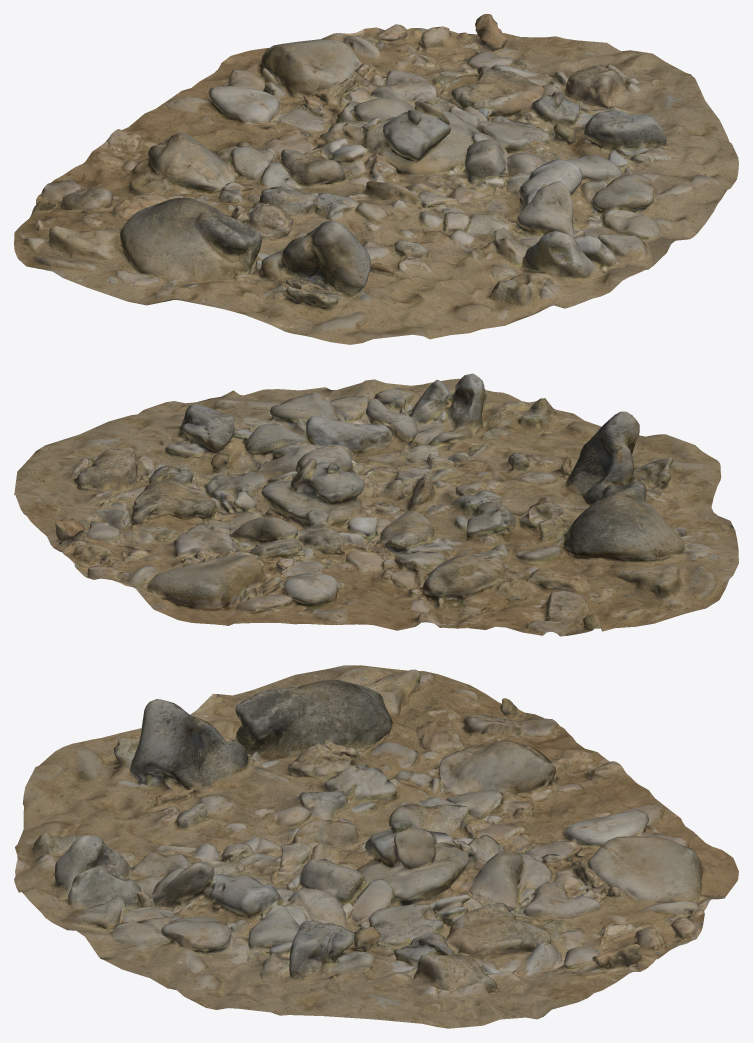
The model's file is desert_hero_sand_rocks.glb.
The picture shows the model from 3 angles, top to bottom: view 1: azimuth 30°, elevation 25°; view 2: azimuth 150°, elevation 25°; view 3: azimuth 270°, elevation 25°; orthographic projection. The views are drawn at different scales.
Visible parts, largest first — view 1: sand_rocks_small_01_LOD0; view 2: sand_rocks_small_01_LOD0; view 3: sand_rocks_small_01_LOD0.
Boxes of the visible parts, bbox=[...] form: sand_rocks_small_01_LOD0: bbox=[14, 14, 738, 344]; sand_rocks_small_01_LOD0: bbox=[14, 373, 738, 636]; sand_rocks_small_01_LOD0: bbox=[14, 665, 738, 1028].
Bounding box in the file's own units: 4.63 × 0.5333 × 3.88.
Materials: 1 (1 with a texture image).
